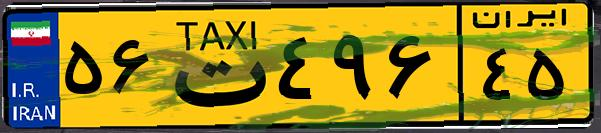4: (270, 28, 330, 110), (475, 38, 525, 113)
5: (57, 26, 110, 100), (525, 38, 570, 115)
6: (385, 28, 445, 110), (110, 28, 158, 98)
9: (330, 28, 385, 110)
ت: (158, 12, 270, 120)
